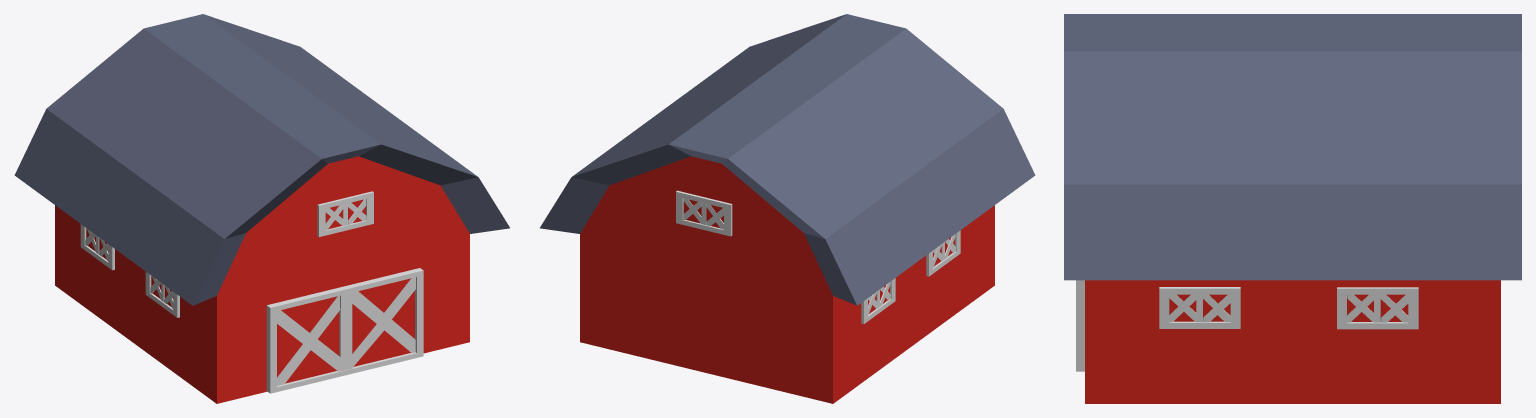
Rendered from barn.glb.
3 renders of one model, left to right at view 1: azimuth 30°, elevation 25°; view 2: azimuth 150°, elevation 25°; view 3: azimuth 270°, elevation 25°, orthographic. The views are drawn at different scales.
Visible parts, largest first — view 1: Cube; view 2: Cube; view 3: Cube.
Part boxes in pixels (box(x1,y1,x2,y2)): Cube: box(14, 14, 509, 403); Cube: box(540, 14, 1035, 403); Cube: box(1064, 14, 1521, 403).
Size of the model in its own units: 12.32 by 8.42 by 11.97.
